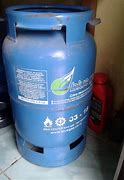blue_gas: (3, 6, 98, 168)
